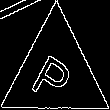P_NE: (30, 41, 81, 104)
